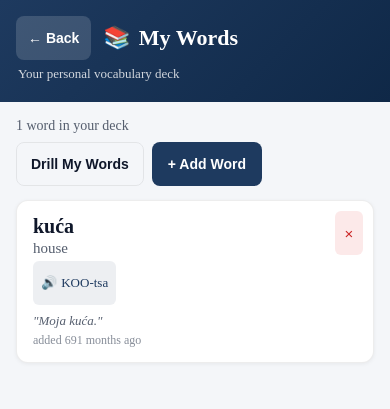
Scenario: MyWordsScreen — drill mode rendering › shows "Card 1 of 1" progress for single word
This screenshot has width=390, height=409.
Click the button "Drill My Words": (80, 164) [16,142,144,186]
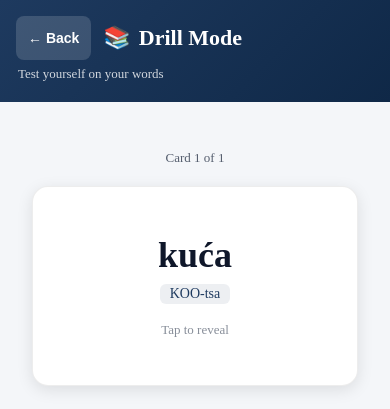
Check: the text "Card 1 of 1" is shown, box [166,150,224,166]
